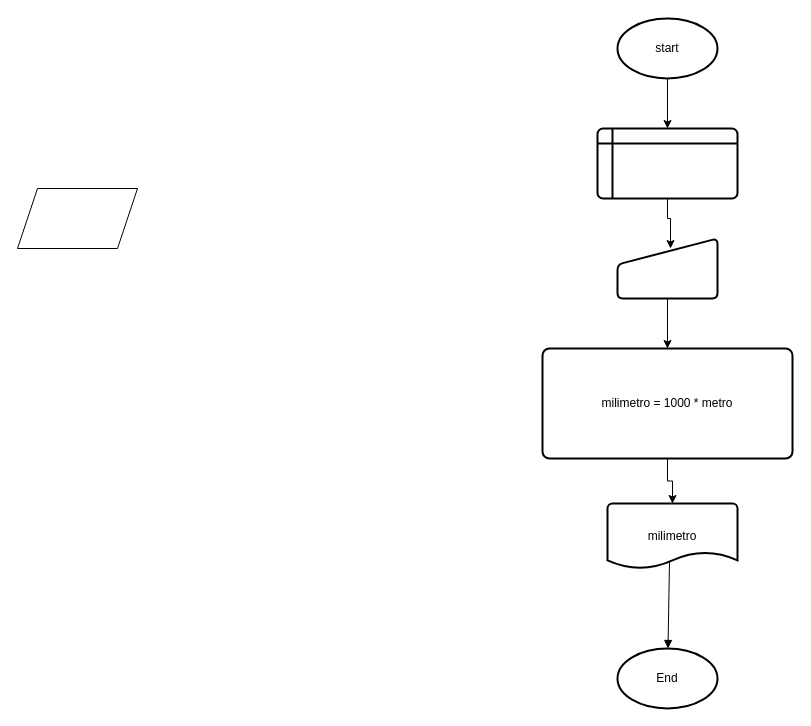
Some shapes in this 811 by 726 pixel diagram are drawn without their labels. Each missing label, with the box of its shape:
metro: (616, 237, 718, 299)
metro, milietro: (596, 127, 738, 199)
